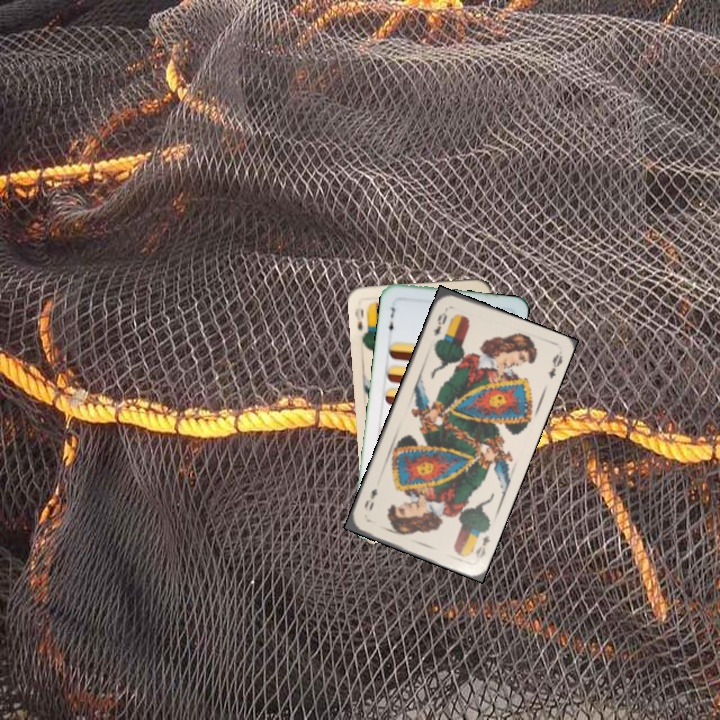E7: (383, 303, 397, 337)
EO: (429, 304, 450, 338), (471, 531, 492, 562), (351, 303, 366, 333)
